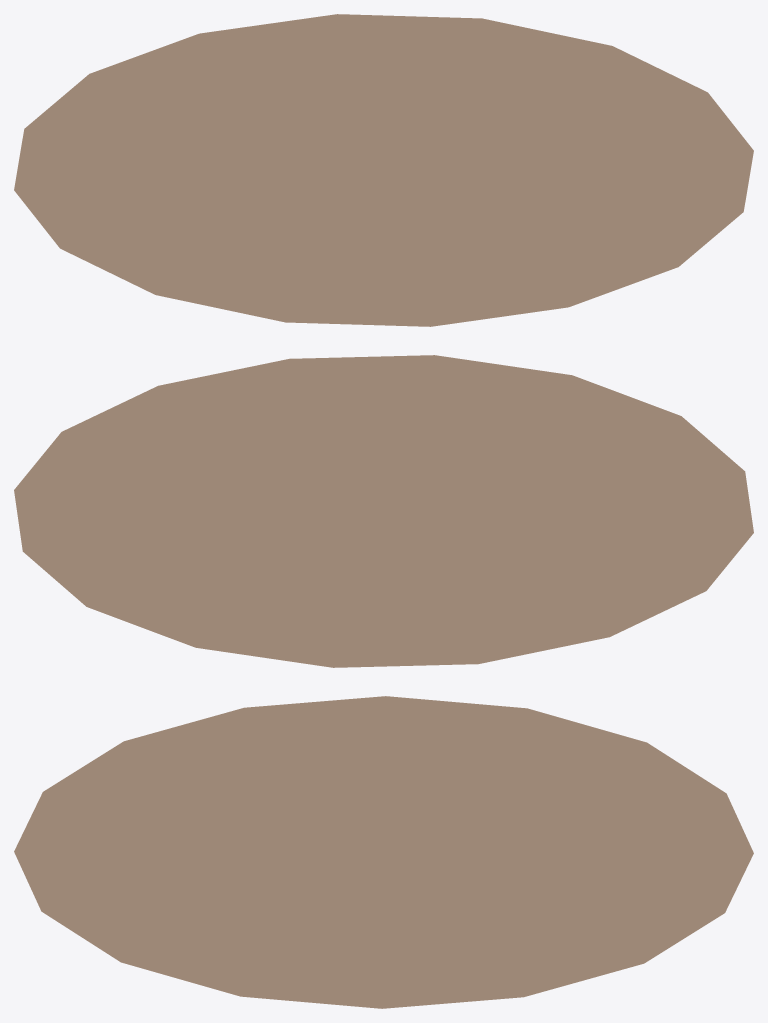
Rendered from floor.gltf.
The picture shows the model from 3 angles, top to bottom: view 1: azimuth 30°, elevation 25°; view 2: azimuth 150°, elevation 25°; view 3: azimuth 270°, elevation 25°; orthographic projection.
Parts seen in each view (by area): view 1: Cylinder.003_1; view 2: Cylinder.003_1; view 3: Cylinder.003_1.
Boxes of the visible parts, x1,y1,x2,y2 form: Cylinder.003_1: (14,14,753,326); Cylinder.003_1: (14,355,753,667); Cylinder.003_1: (14,696,753,1008).
Size of the model in its own units: 3.18 by 0 by 3.18.
